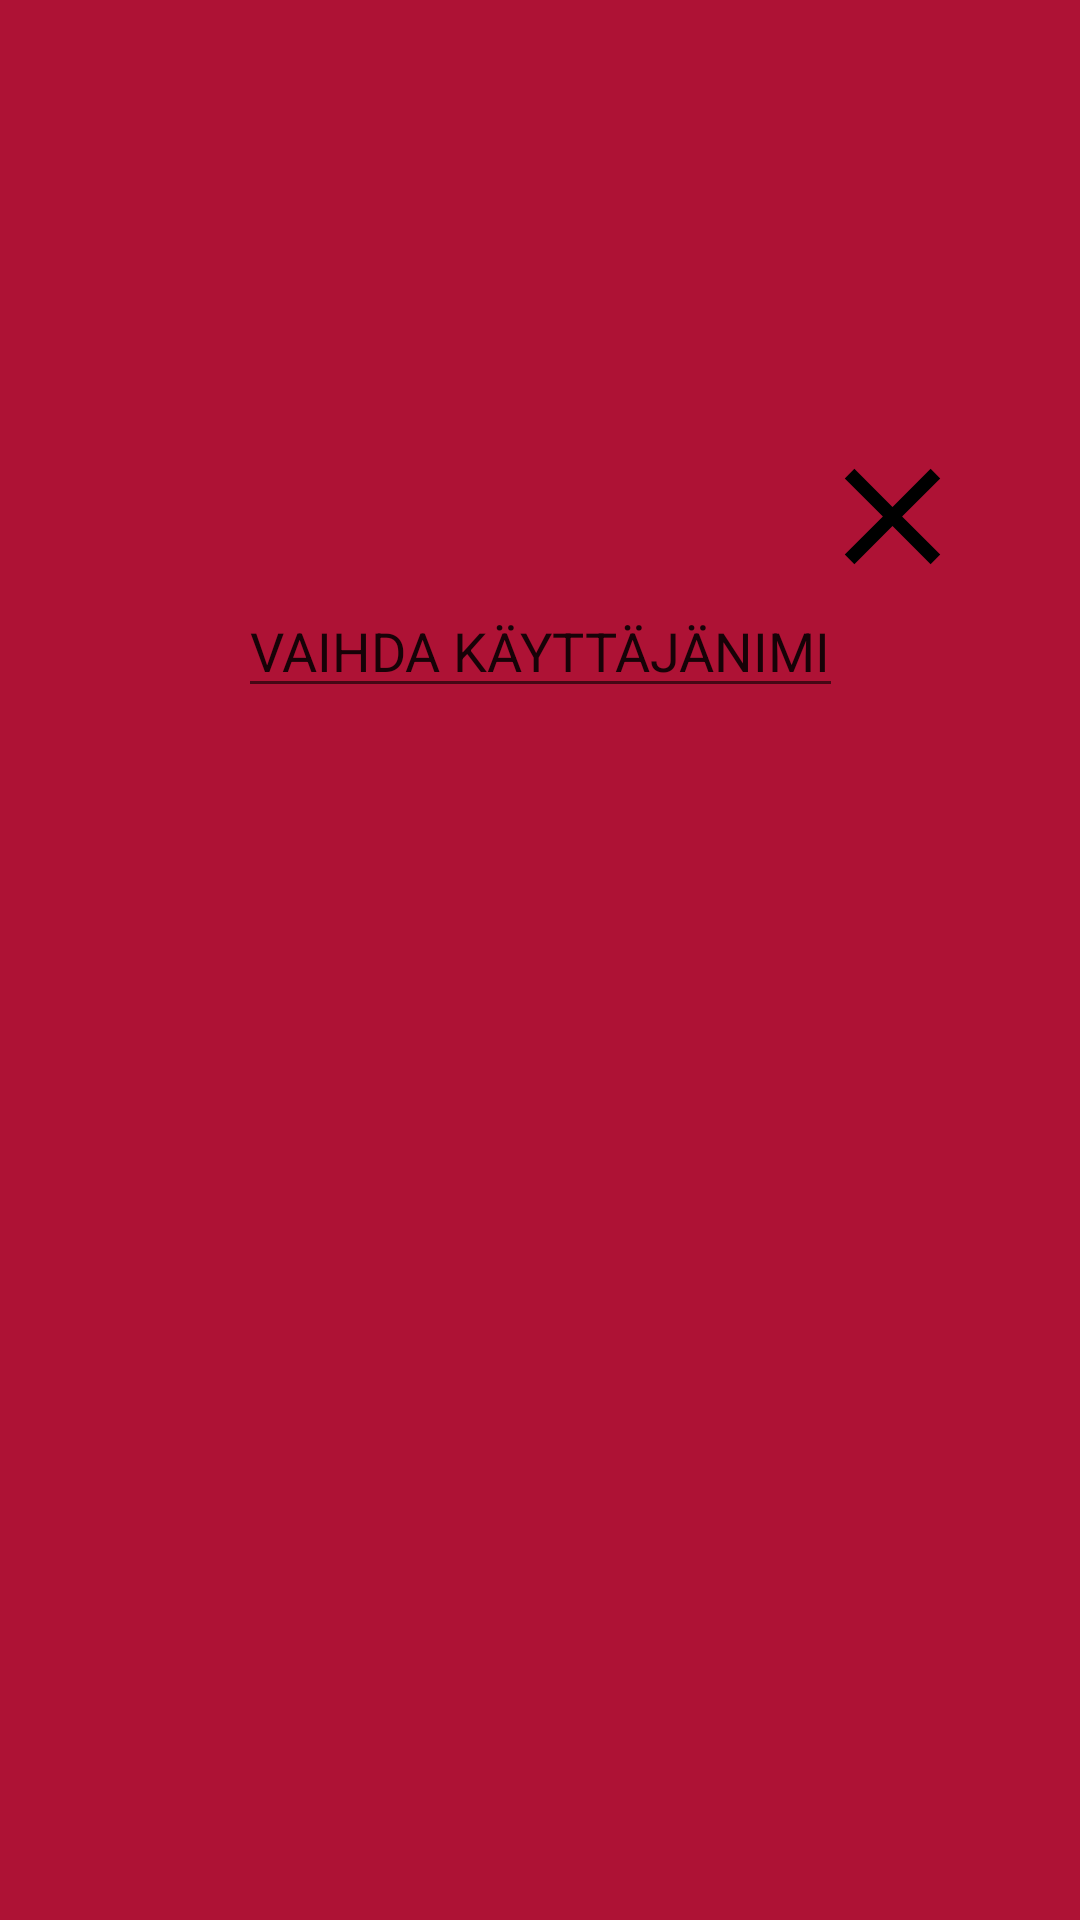

Icons on this 1080px x 1920px Android screen, each with the point to tap as [x,y]:
close: [892,516]
